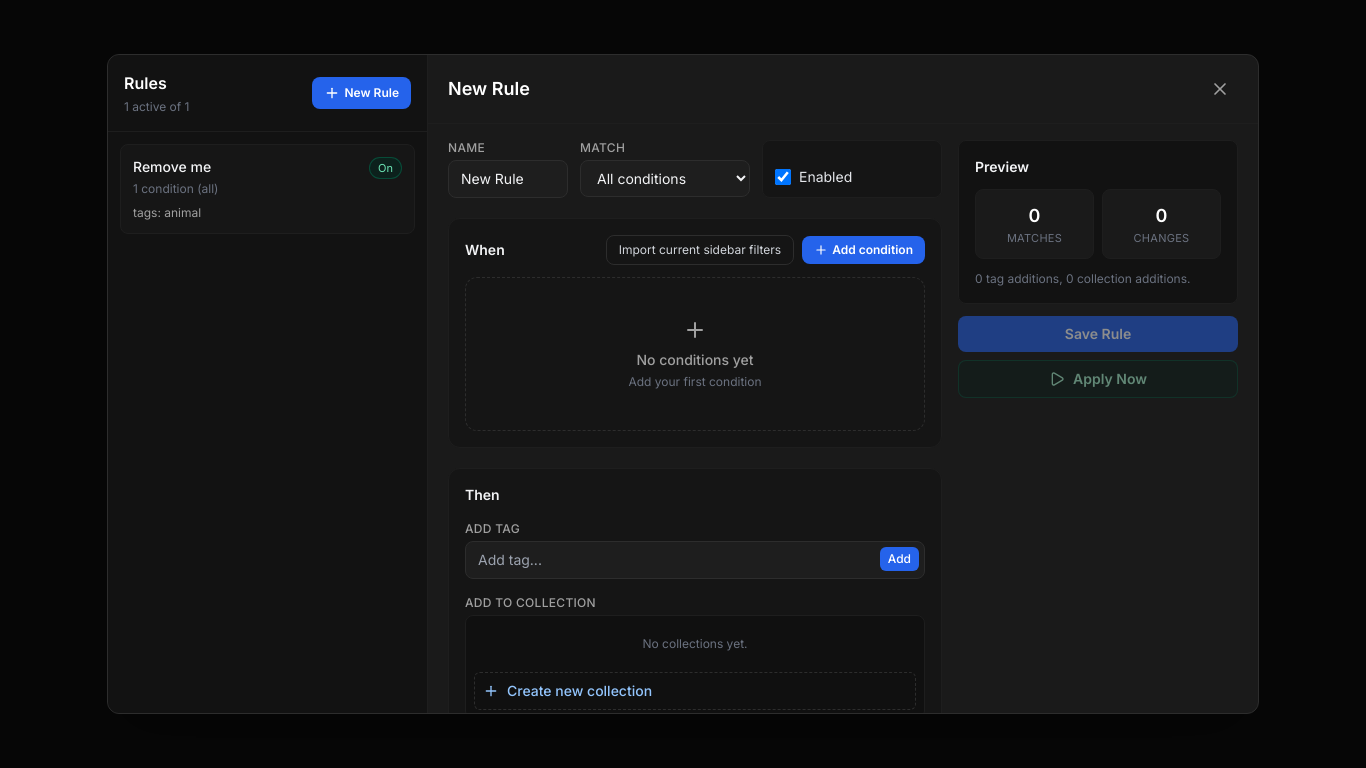
Test: AutomationRulesModal › clears the editor after deleting the selected rule
What coordinates should you click on to do the following:
click the button "Remove me 1 condition (all) On tags: animal"
I would click on:
 (172, 166)
Its box is [120,144,415,234].
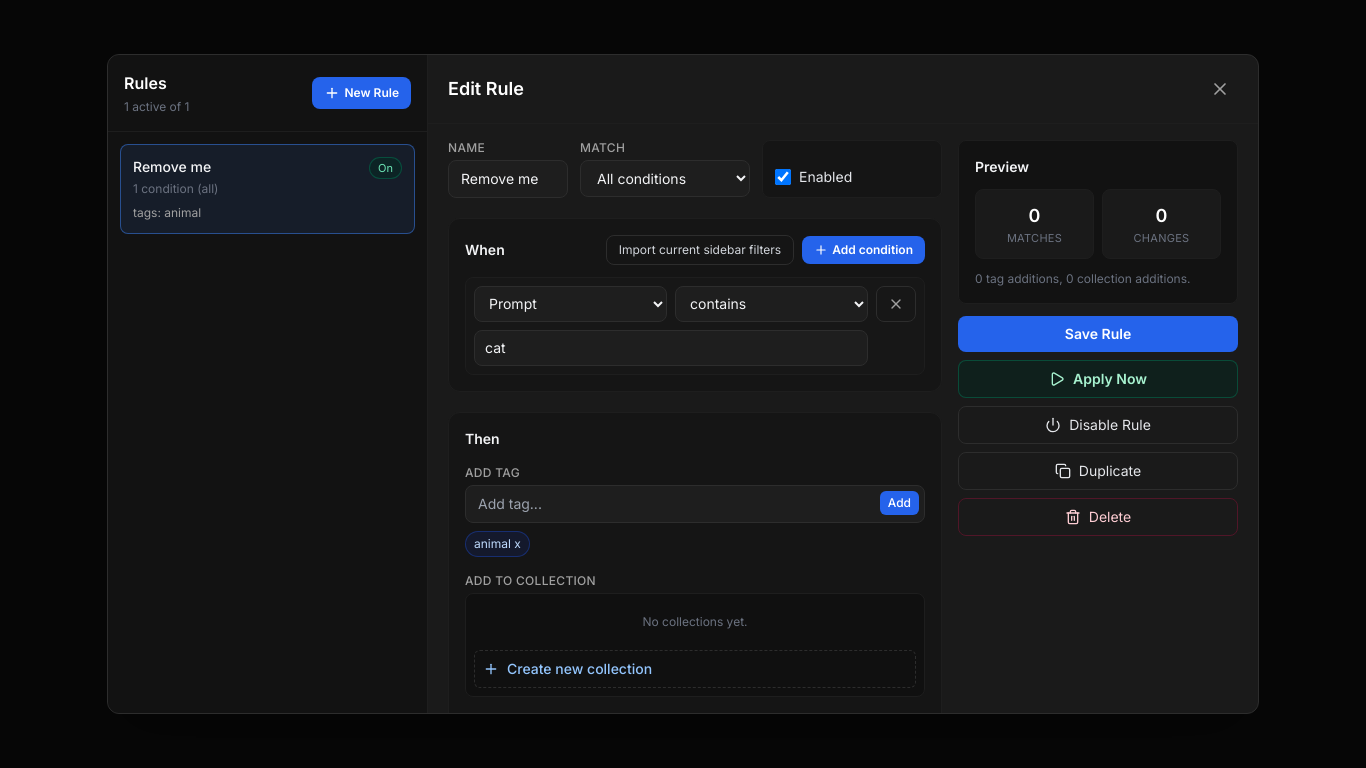
Check: the heading "Edit Rule" is shown, box [448,75,524,103]
What coordinates should you click on to do the following:
click the button "Delete"
I would click on:
 (1098, 517)
Its box is [958,498,1238,536].
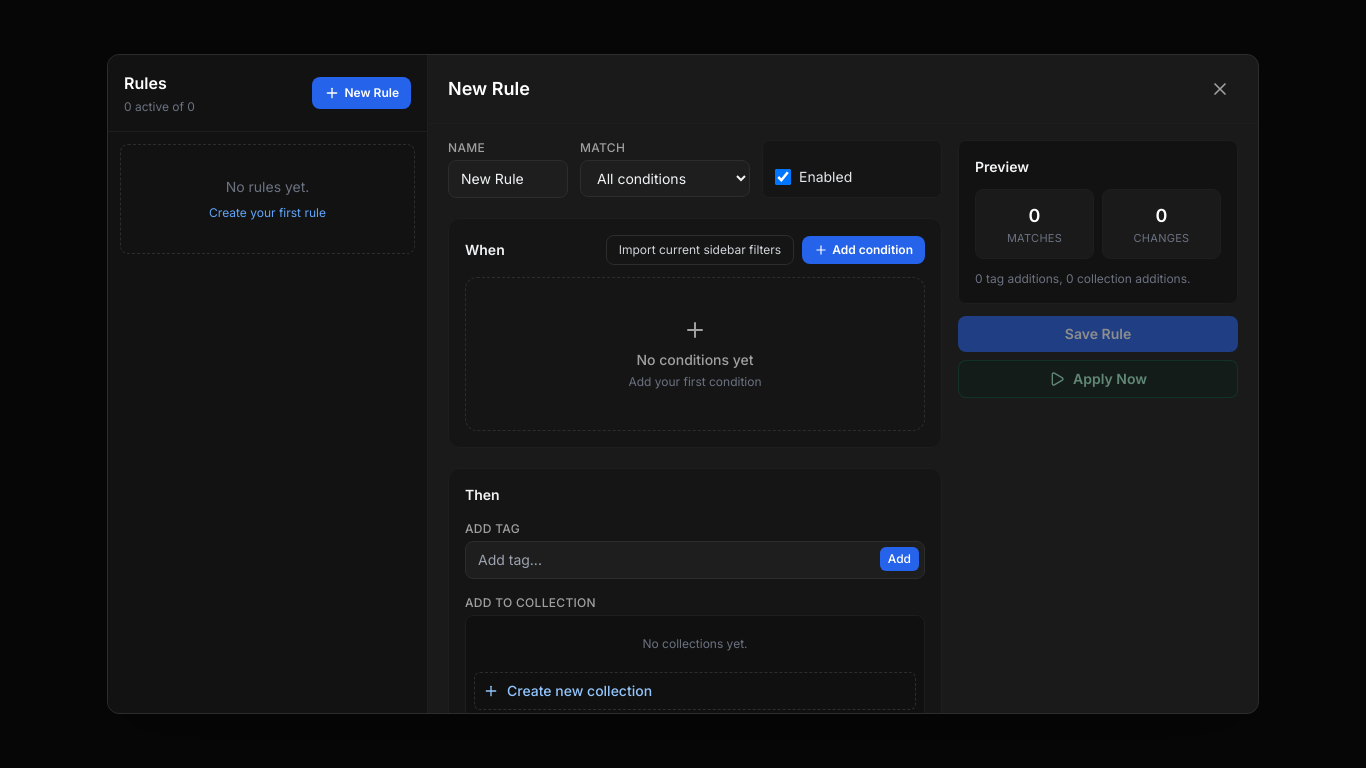
Check: the heading "New Rule" is shown, box [448,75,530,103]
Check: the text "No conditions yet" is shown, box [636,350,754,370]
